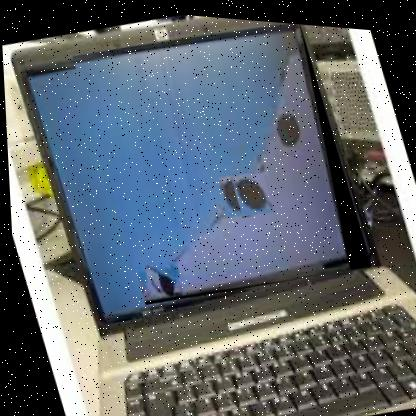crack: (69, 4, 373, 319)
spot: (274, 100, 321, 155), (228, 166, 273, 217), (161, 257, 204, 301)
